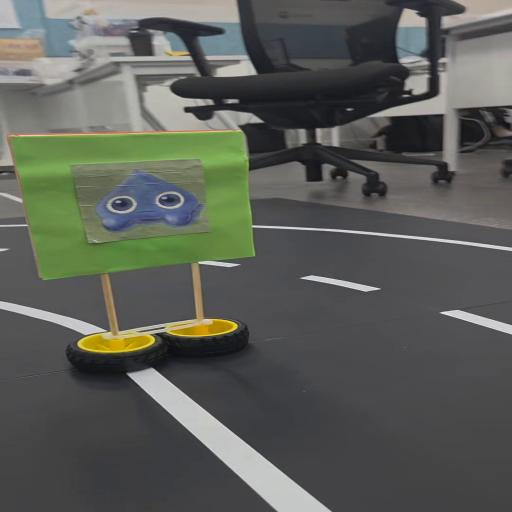Sign_B: (8, 130, 263, 371)
